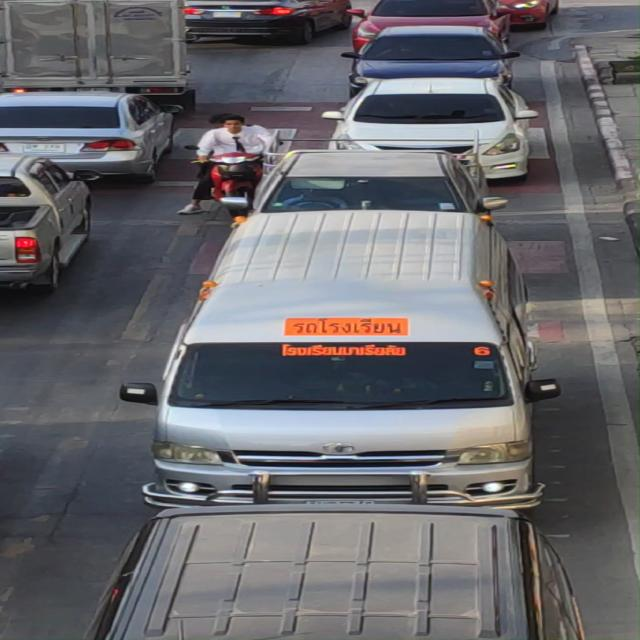car: (141, 211, 582, 503)
